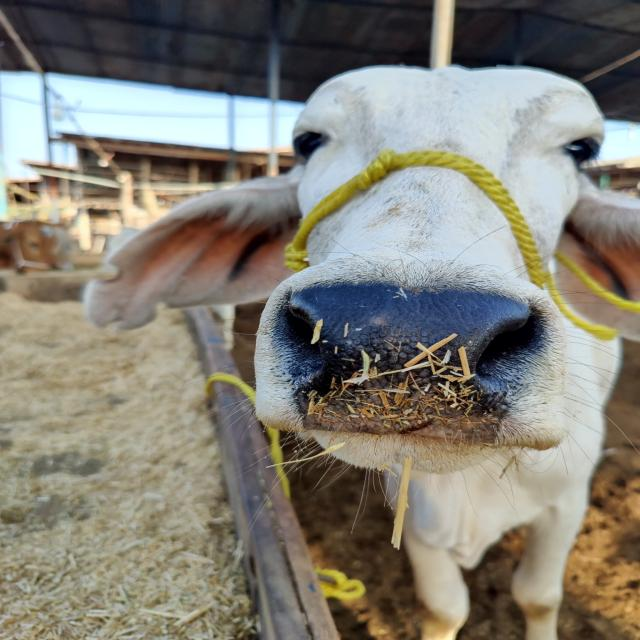muzzles: (272, 270, 548, 448)
